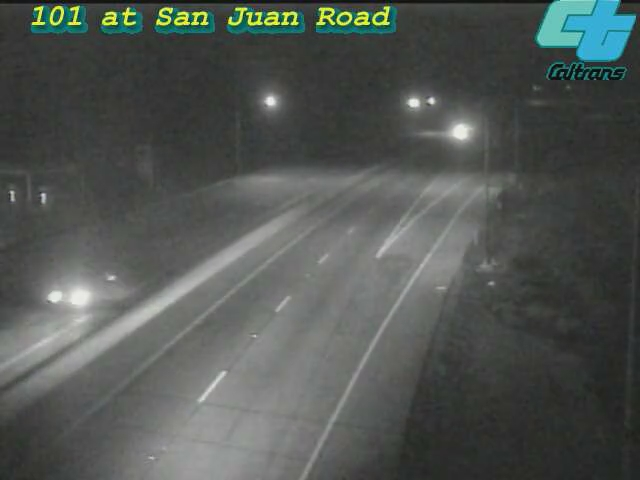vehicle: (24, 258, 104, 338), (432, 106, 482, 156)
